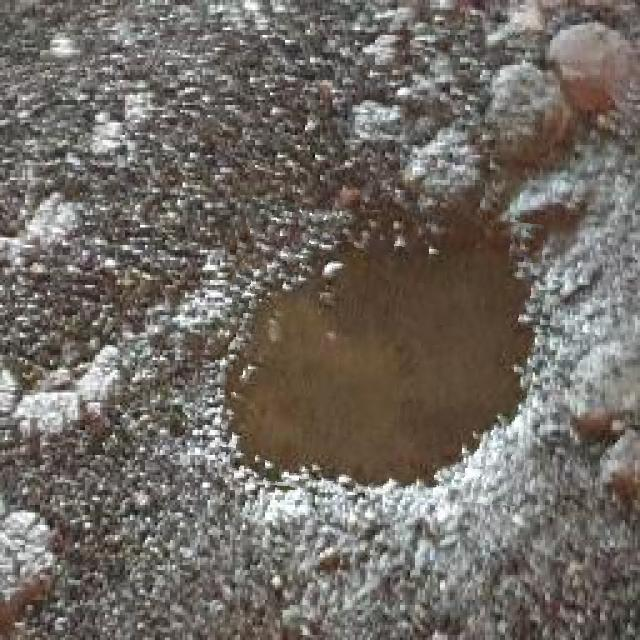puddle: (223, 206, 540, 501)
